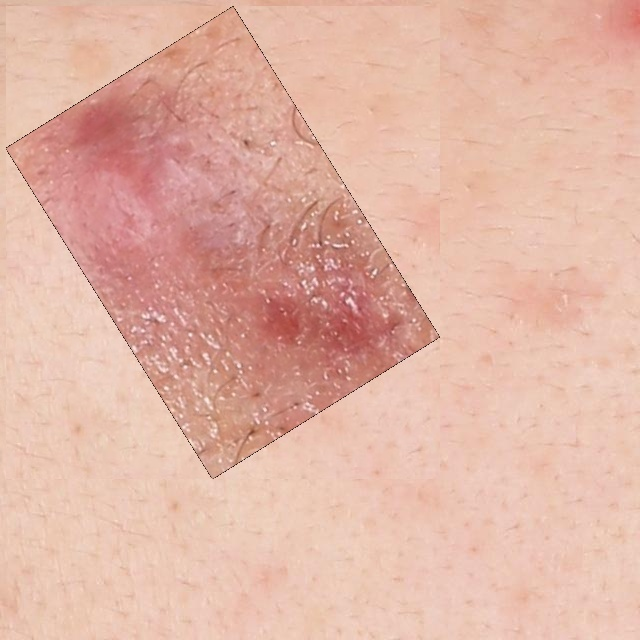nodule: (17, 17, 429, 468)
